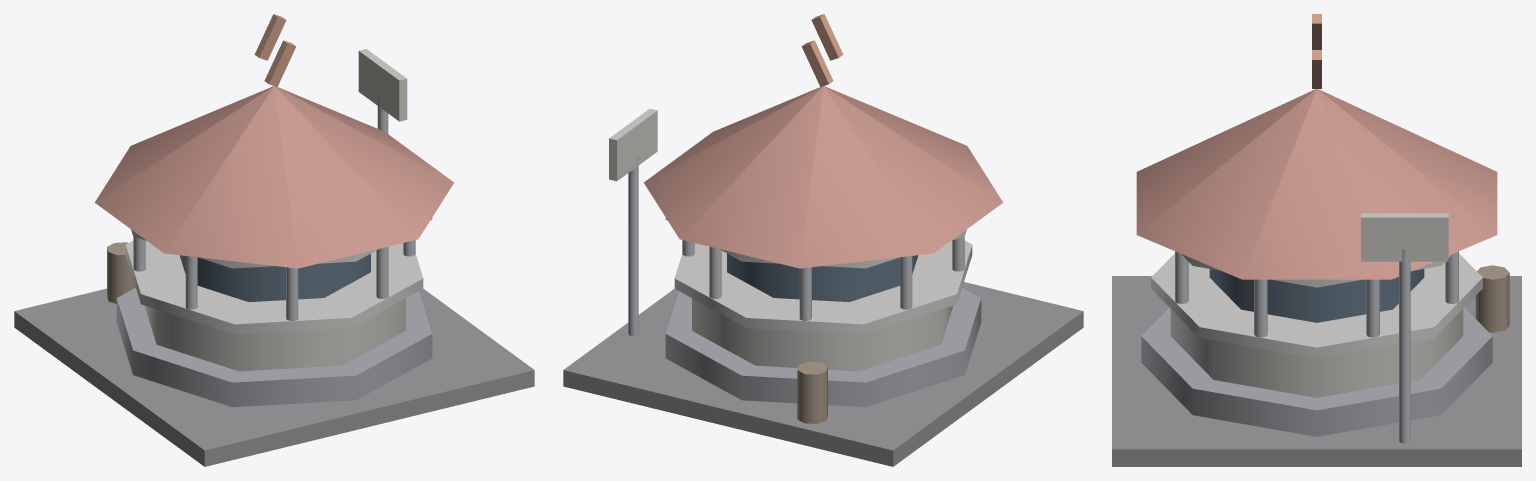
Rendered from kind-kiosk.glb.
3 views of the same model, side by side, from view 1: azimuth 30°, elevation 25°; view 2: azimuth 150°, elevation 25°; view 3: azimuth 270°, elevation 25° (orthographic). The views are drawn at different scales.
Visible parts, largest first — view 1: kind-kiosk; view 2: kind-kiosk; view 3: kind-kiosk.
Boxes of the visible parts, bbox=[...] form: kind-kiosk: bbox=[14, 14, 534, 466]; kind-kiosk: bbox=[563, 14, 1083, 466]; kind-kiosk: bbox=[1112, 14, 1521, 466].
Size of the model in its own units: 0.84 by 0.8299 by 0.84.
